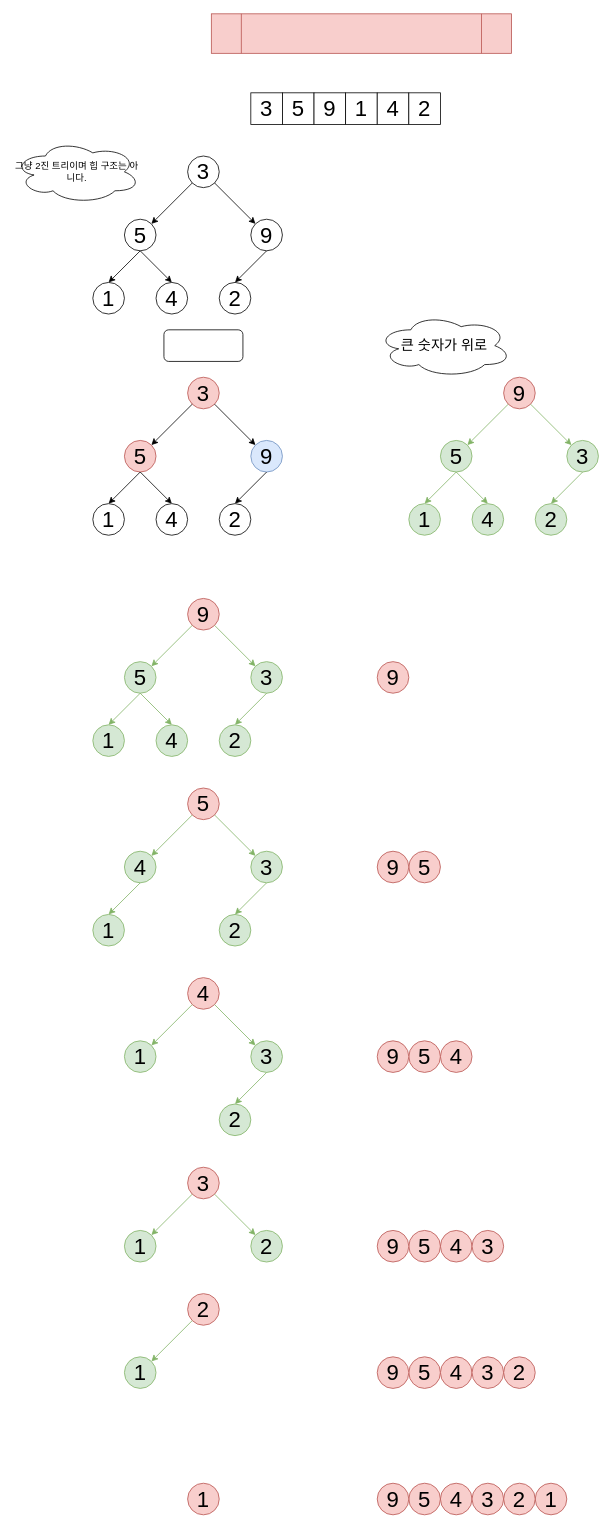
This 612x1529 diagram has some shape labels left out. Here are the shapes that lost their labels. From the top down, the centre of each, then its label:
(x=361, y=33): Heap Sort
(x=203, y=345): 2진 트리
